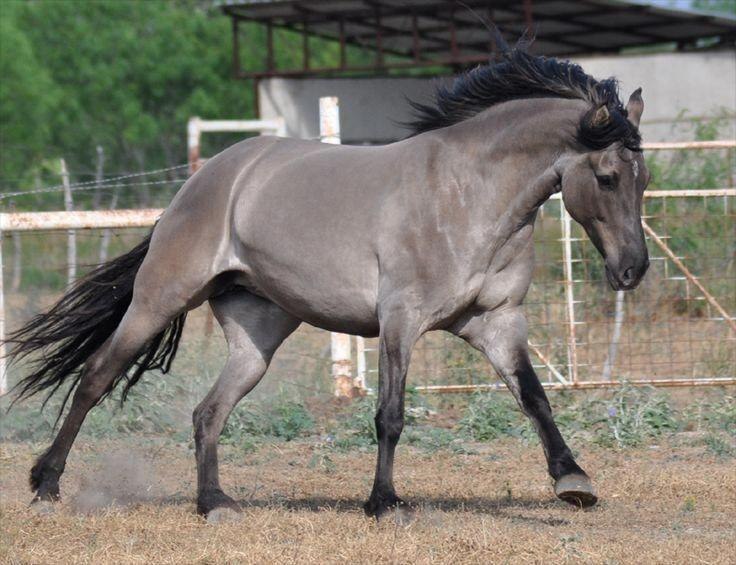horse: (1, 16, 651, 526)
